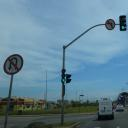NoVirarEsquerda: (105, 18, 116, 31)
NoVirarU: (3, 54, 24, 76)
